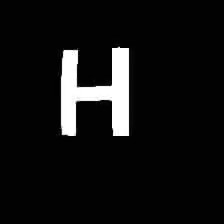LTR_H: (55, 42, 132, 138)
